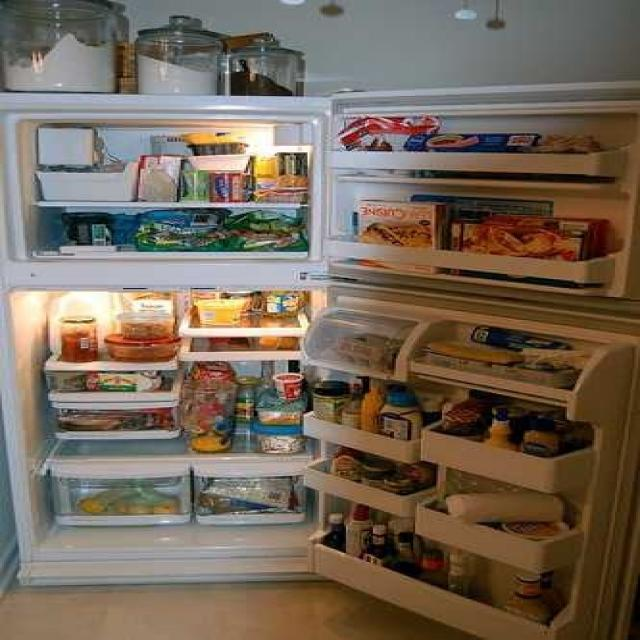refrigerator: (0, 92, 632, 597)
